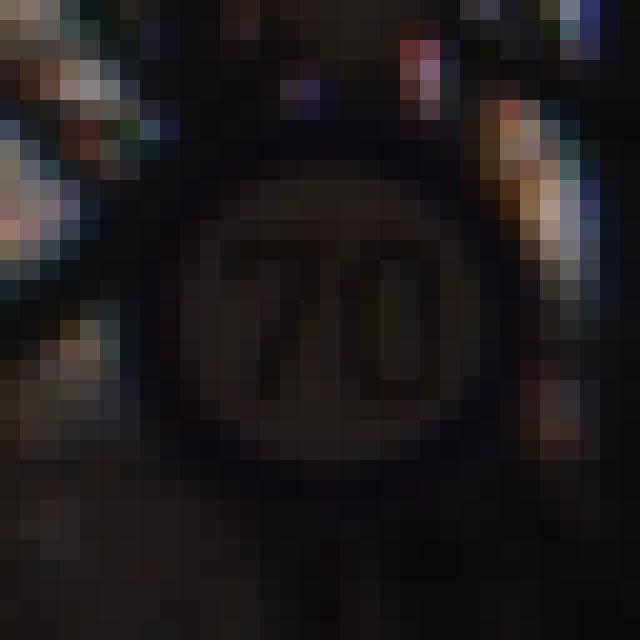SPEED LIMIT 70: (136, 112, 532, 530)
